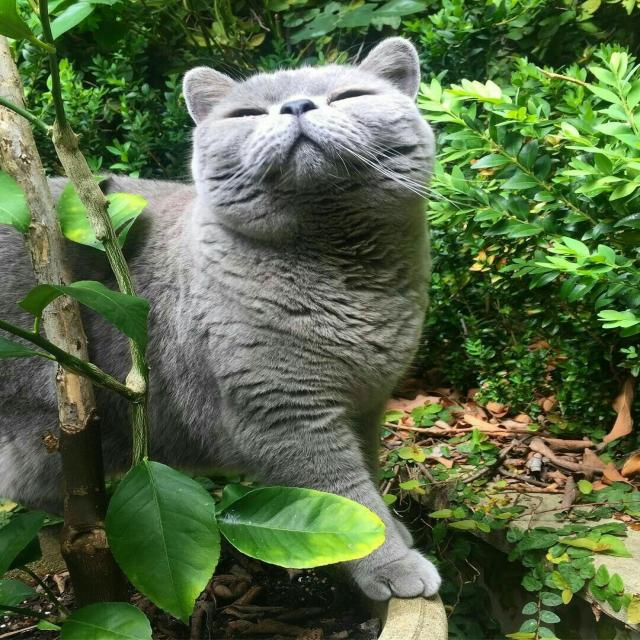british shorthair: (50, 5, 640, 613)
